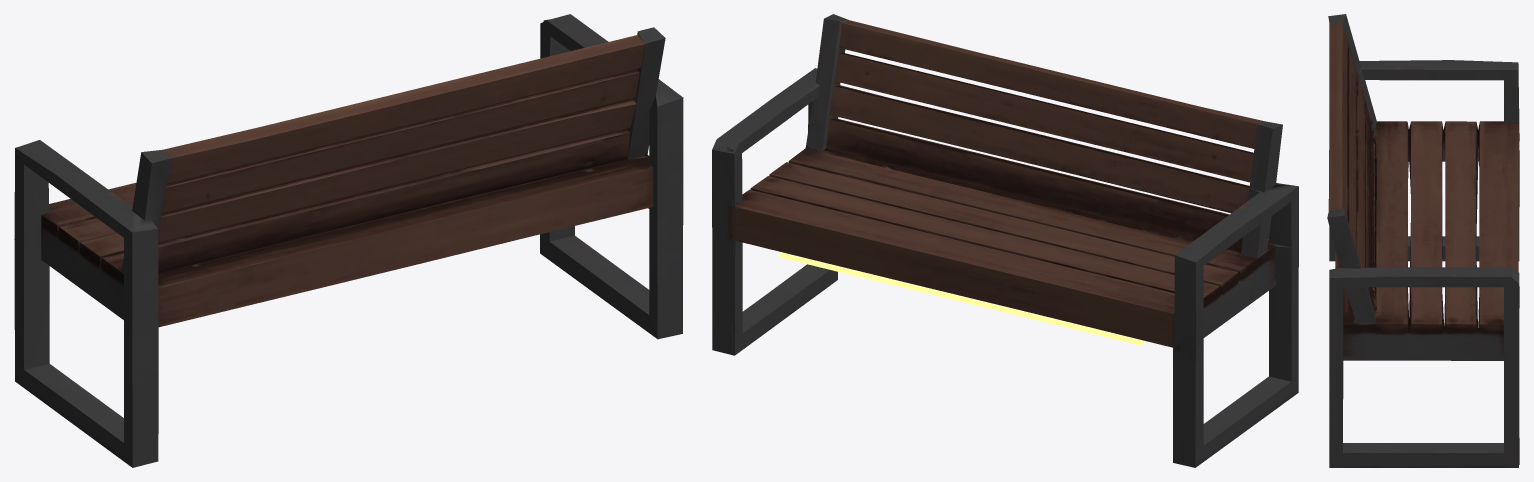
Rendered from seat_bench_v2.glb.
The picture shows the model from 3 angles, left to right: view 1: azimuth 30°, elevation 25°; view 2: azimuth 150°, elevation 25°; view 3: azimuth 270°, elevation 25°; orthographic projection. The views are drawn at different scales.
Parts seen in each view (by area): view 1: body; view 2: body, lights; view 3: body.
Boxes of the visible parts, box(x1,y1,x2,y2) form: body: box(14, 14, 683, 467); body: box(712, 14, 1298, 467); lights: box(779, 252, 1145, 345); body: box(1327, 14, 1519, 467).
Bounding box in the file's own units: 1.6 × 0.8446 × 0.5995.
Materials: 2 (1 with a texture image).
